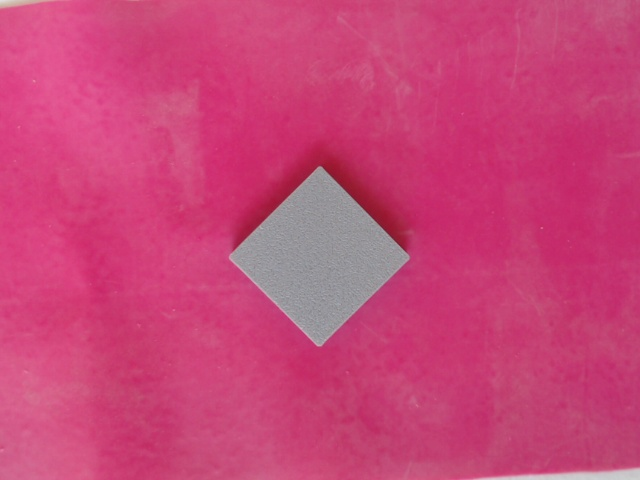Defective: (225, 163, 422, 352)
